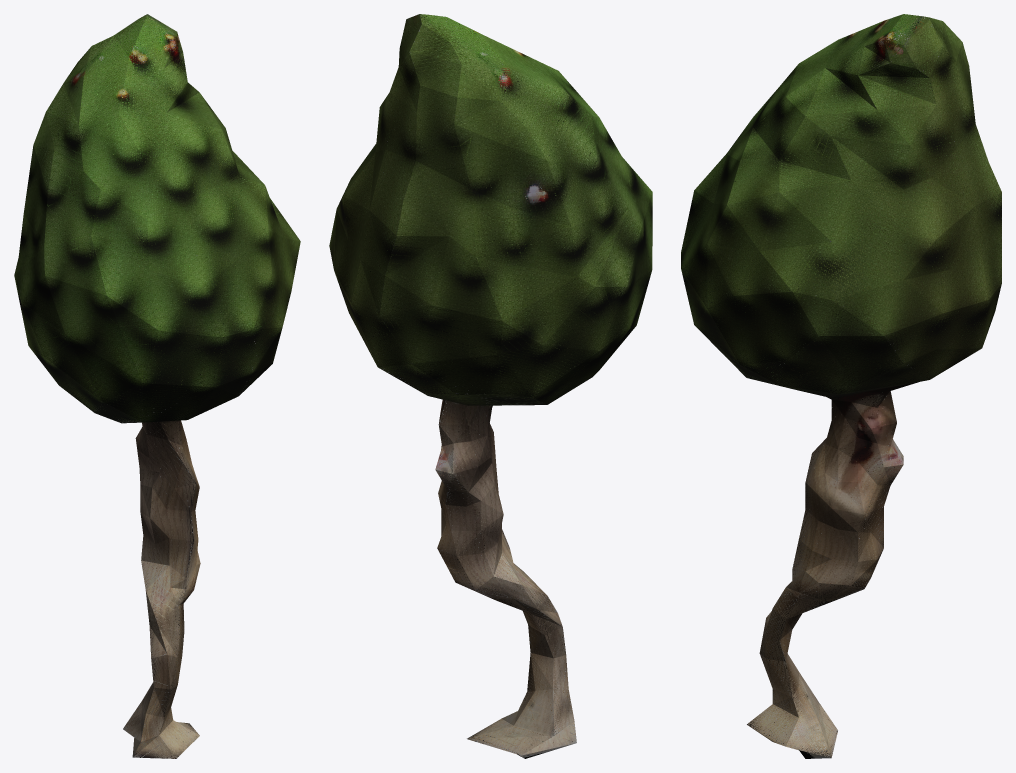
3 views of the same model, side by side, from view 1: azimuth 30°, elevation 25°; view 2: azimuth 150°, elevation 25°; view 3: azimuth 270°, elevation 25° (orthographic). The views are drawn at different scales.
Visible parts, largest first — view 1: textured.obj; view 2: textured.obj; view 3: textured.obj.
Boxes of the visible parts, bbox=[...] form: textured.obj: bbox=[14, 14, 300, 758]; textured.obj: bbox=[329, 14, 652, 758]; textured.obj: bbox=[681, 14, 1001, 758].
Bounding box in the file's own units: 0.7717 × 2 × 0.7717.
1 material, 1 textured.
